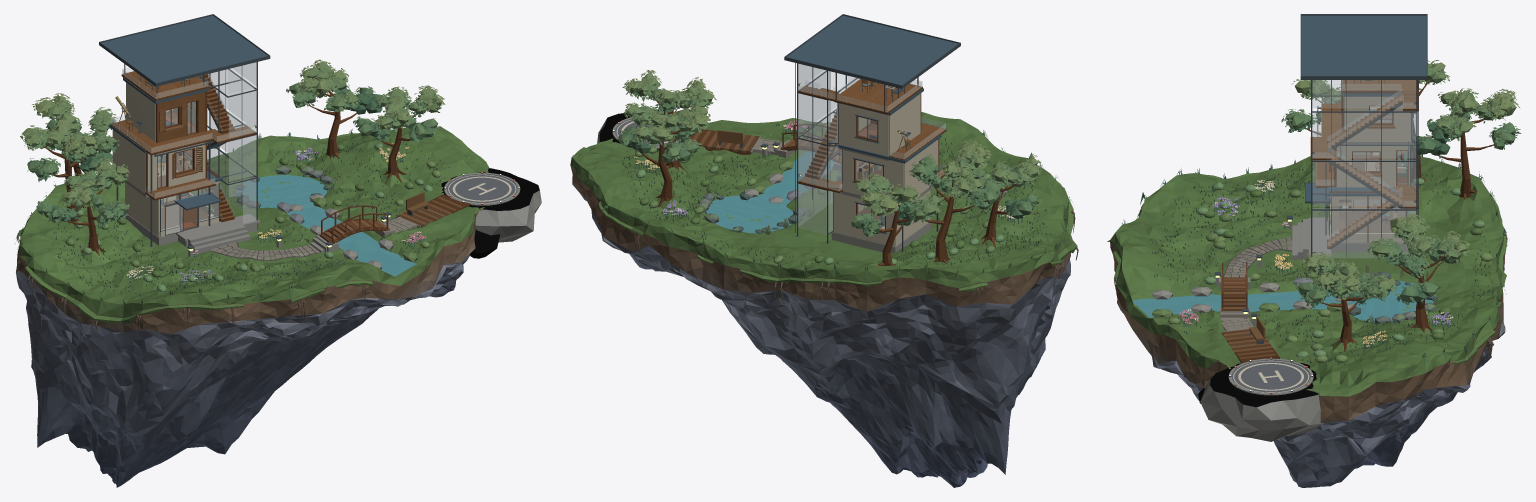
Rendered from aerie.glb.
The picture shows the model from 3 angles, left to right: view 1: azimuth 30°, elevation 25°; view 2: azimuth 150°, elevation 25°; view 3: azimuth 270°, elevation 25°; orthographic projection. The views are drawn at different scales.
Parts seen in each view (by area): view 1: Island, Rock, House, Trees, Glass, Turf, Pad, Water, Paths, Interiors, Flowers, Props; view 2: Island, Rock, House, Trees, Glass, Turf, Water, Paths, Pad, Flowers, Interiors; view 3: Island, House, Glass, Trees, Rock, Pad, Turf, Paths, Water, Interiors, Flowers.
Boxes of the visible parts, x1,y1,x2,y2 form: Island: (16, 126, 489, 334); Rock: (16, 166, 499, 487); House: (99, 14, 270, 254); Trees: (20, 59, 445, 255); Glass: (111, 62, 256, 234); Turf: (16, 129, 450, 333); Pad: (441, 168, 541, 242); Water: (236, 175, 416, 276); Paths: (209, 192, 470, 260); Interiors: (157, 102, 214, 230); Flowers: (126, 143, 426, 283); Props: (115, 75, 391, 257); Island: (570, 112, 1072, 311); Rock: (574, 122, 1070, 487); House: (784, 14, 960, 252); Trees: (618, 70, 1041, 265); Glass: (798, 64, 945, 234); Turf: (586, 120, 1078, 303); Water: (706, 151, 834, 233); Paths: (688, 124, 840, 163); Pad: (597, 109, 682, 151); Flowers: (634, 120, 1024, 223); Interiors: (857, 123, 884, 229); Island: (1110, 156, 1504, 422); House: (1292, 14, 1427, 261); Glass: (1312, 80, 1416, 257); Trees: (1281, 60, 1521, 351); Rock: (1116, 262, 1505, 487); Pad: (1200, 357, 1324, 441); Turf: (1107, 154, 1507, 367); Paths: (1221, 237, 1292, 363); Water: (1132, 280, 1433, 322); Interiors: (1330, 106, 1407, 232); Flowers: (1179, 180, 1453, 349).
Bounding box in the file's own units: 36.12 × 29.76 × 24.4.
